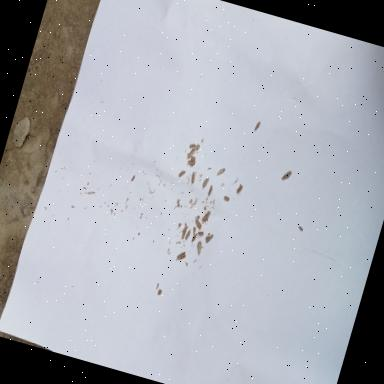pbw: (186, 145, 198, 161), (200, 209, 211, 225), (194, 241, 204, 257), (176, 250, 188, 262), (281, 170, 292, 183), (180, 226, 188, 241), (204, 234, 214, 246), (216, 166, 226, 178), (202, 176, 210, 190), (193, 220, 203, 231), (186, 158, 196, 168), (236, 184, 243, 196), (191, 232, 198, 243), (254, 121, 260, 133), (207, 185, 213, 197), (190, 172, 196, 184), (184, 229, 190, 241), (178, 170, 186, 178), (196, 231, 204, 238), (188, 143, 196, 150), (223, 195, 230, 202), (191, 227, 196, 236), (298, 226, 304, 232), (156, 283, 158, 290)
